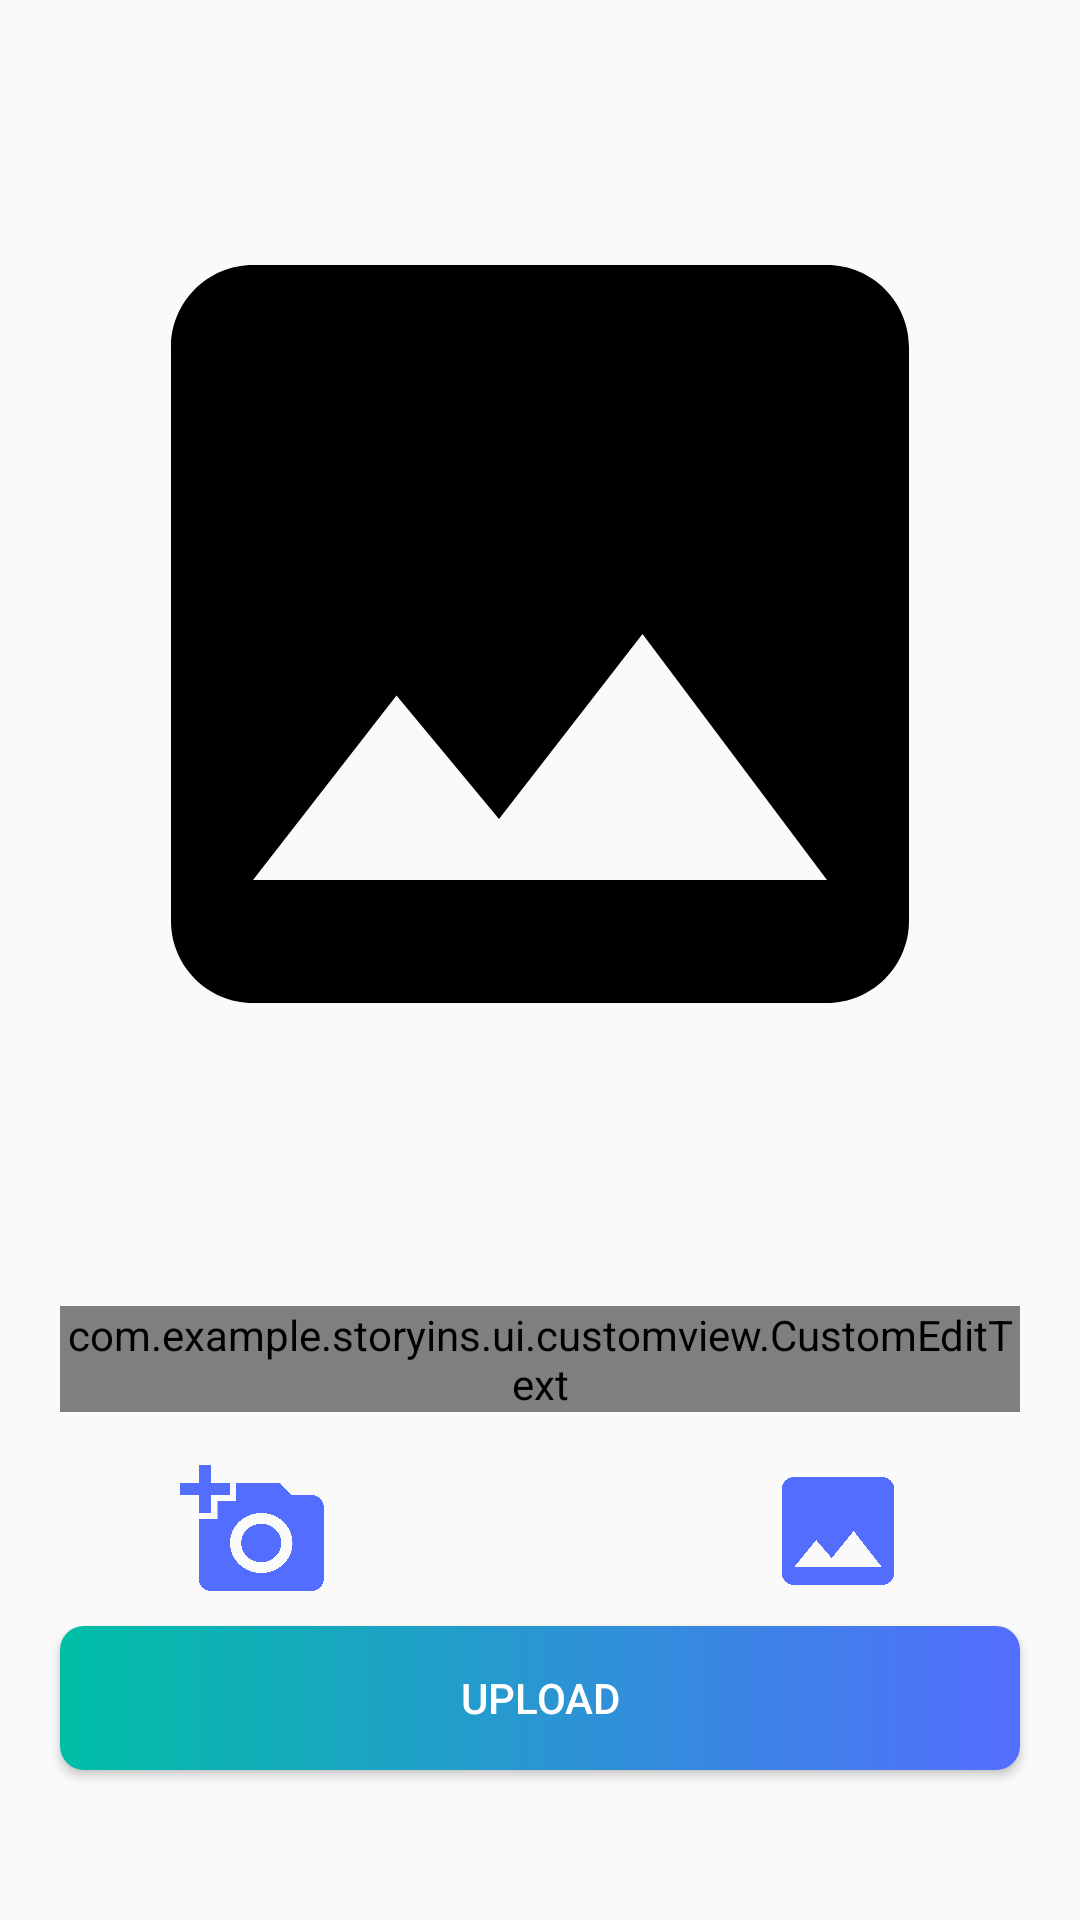

Icons on this 1080*1920 Android screen, each with the point to tap as point (x, y):
add photo: point (252, 1528)
